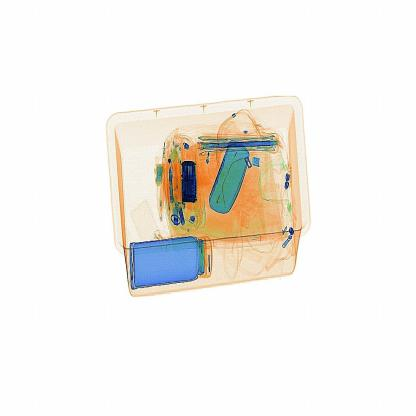scissors: (173, 154, 208, 210)
